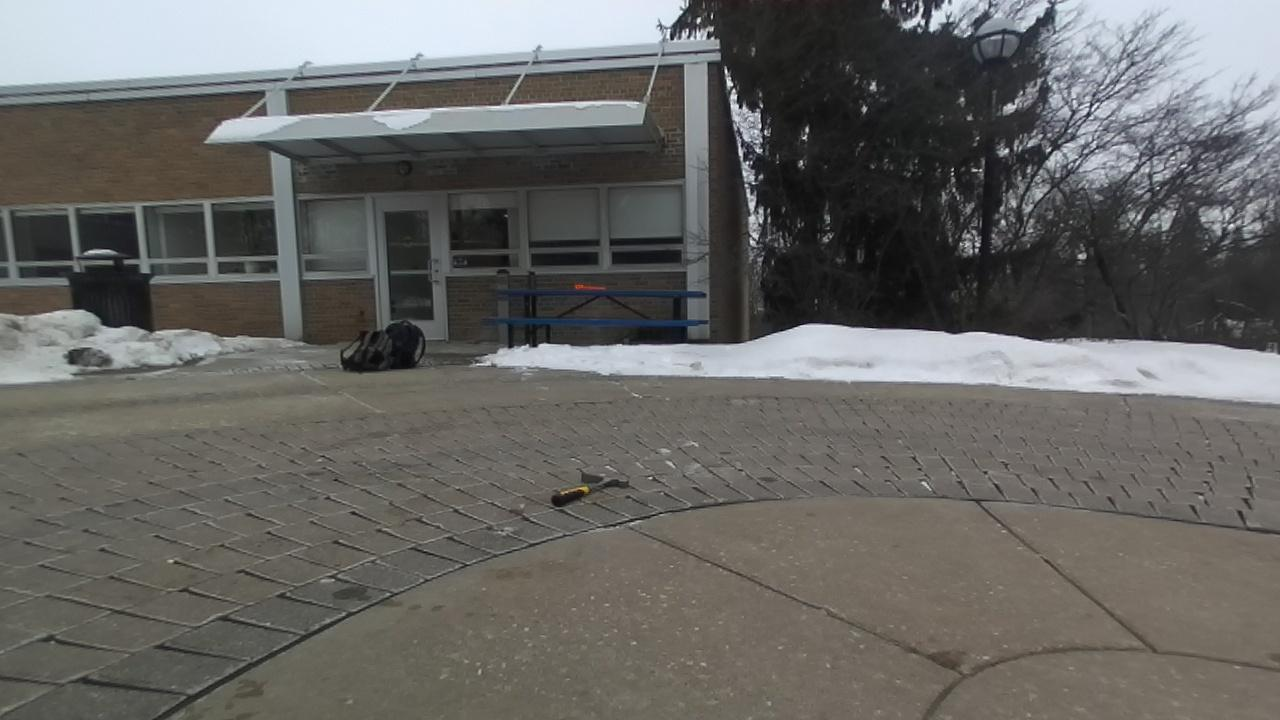mallet: (575, 284, 606, 289)
pick: (551, 472, 630, 507)
